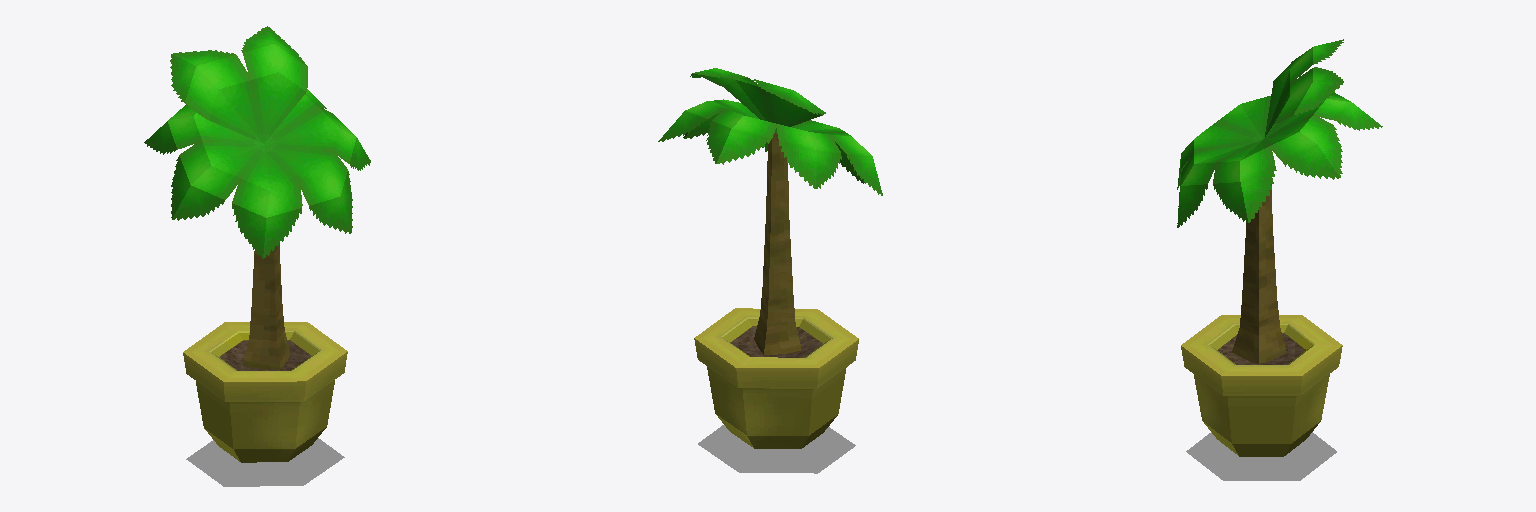
3 views of the same model, side by side, from view 1: azimuth 30°, elevation 25°; view 2: azimuth 150°, elevation 25°; view 3: azimuth 270°, elevation 25° (orthographic).
Visible parts, largest first — view 1: polySurface1.007; view 2: polySurface1.007; view 3: polySurface1.007.
Part boxes in pixels (left/top/right/bottom): polySurface1.007: left=144, top=26, right=370, bottom=486; polySurface1.007: left=658, top=68, right=882, bottom=473; polySurface1.007: left=1177, top=39, right=1382, bottom=480.
Size of the model in its own units: 1.37 by 2.56 by 1.22.
Materials: 2 (1 with a texture image).